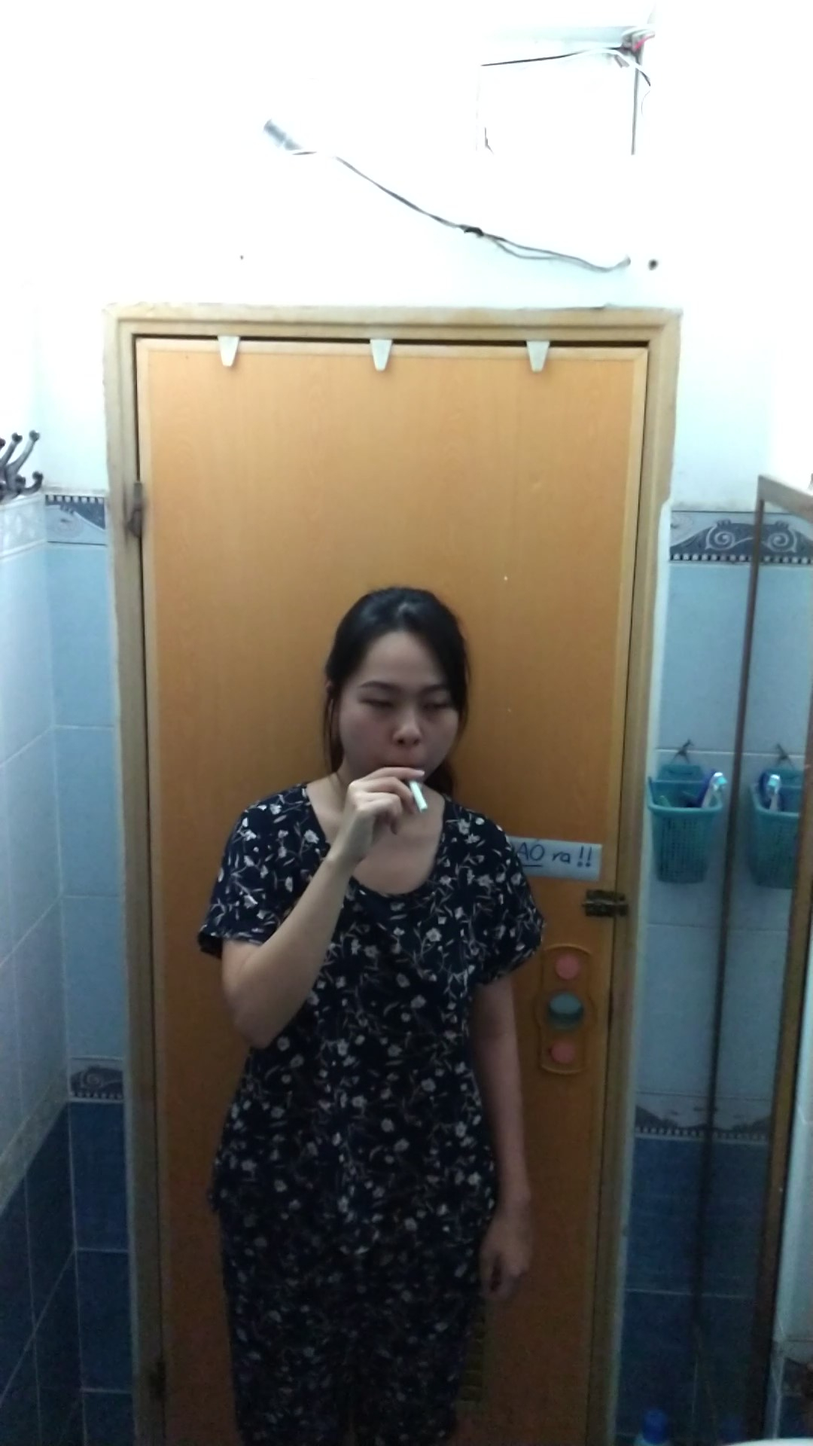cigarette: (405, 776, 433, 816)
person: (192, 583, 553, 1446)
